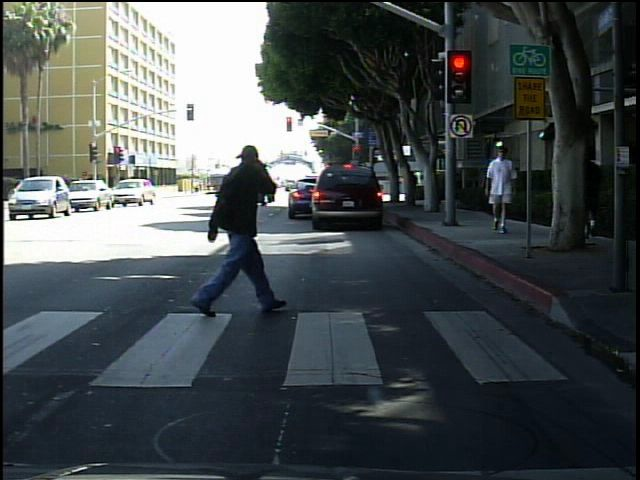person: (181, 121, 293, 335), (480, 145, 523, 240), (575, 137, 608, 246)
